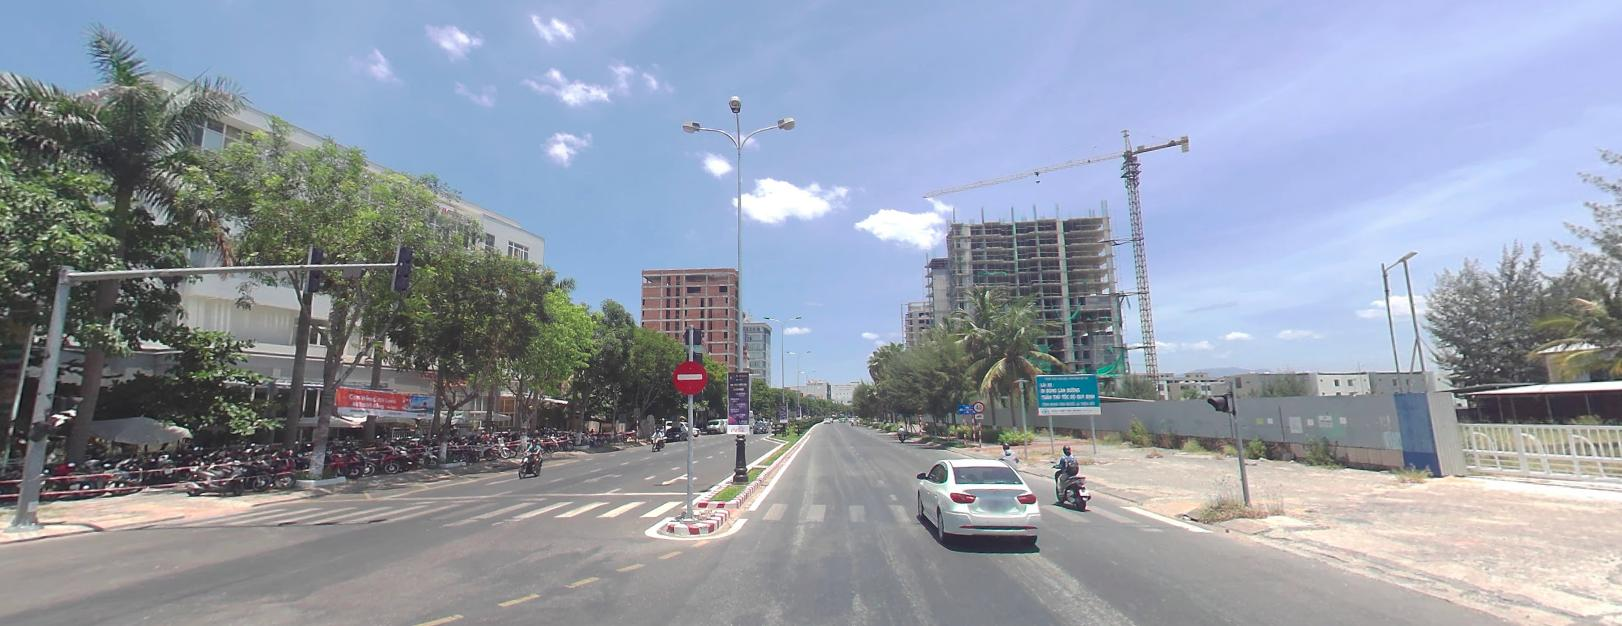Cam nguoc chieu: (672, 359, 706, 393)
Gioi han toc do: (973, 400, 984, 411)
